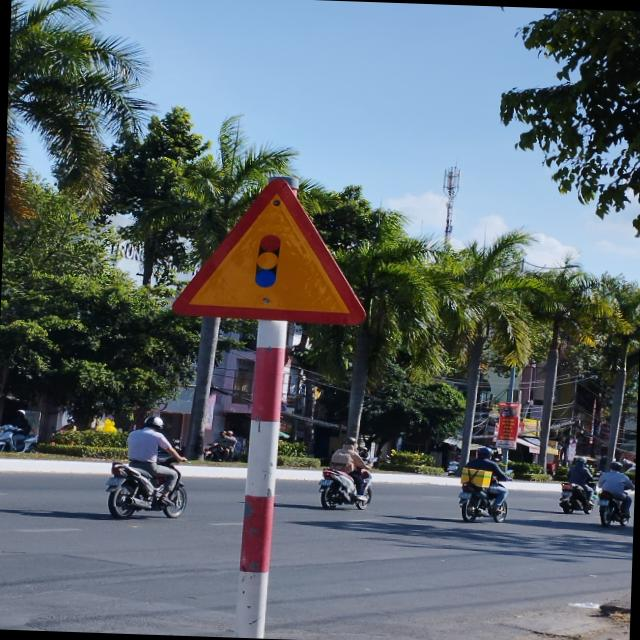Duong_Co_Go_Giam_Toc: (170, 173, 370, 323)
